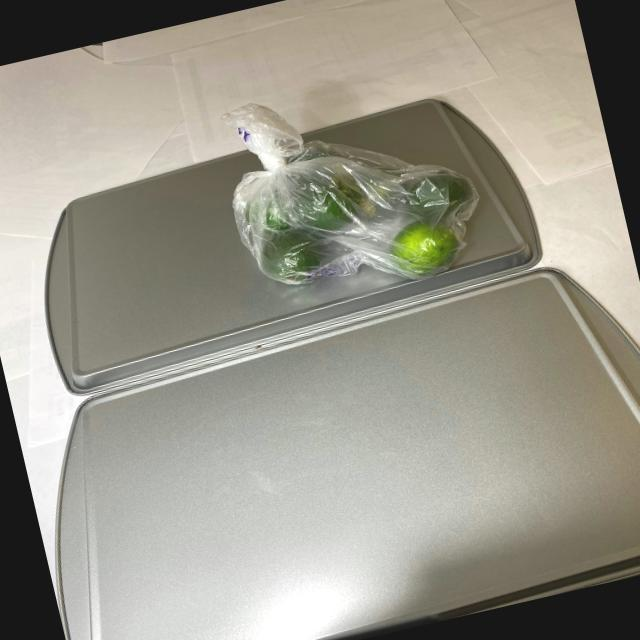lemon: (218, 114, 491, 311)
